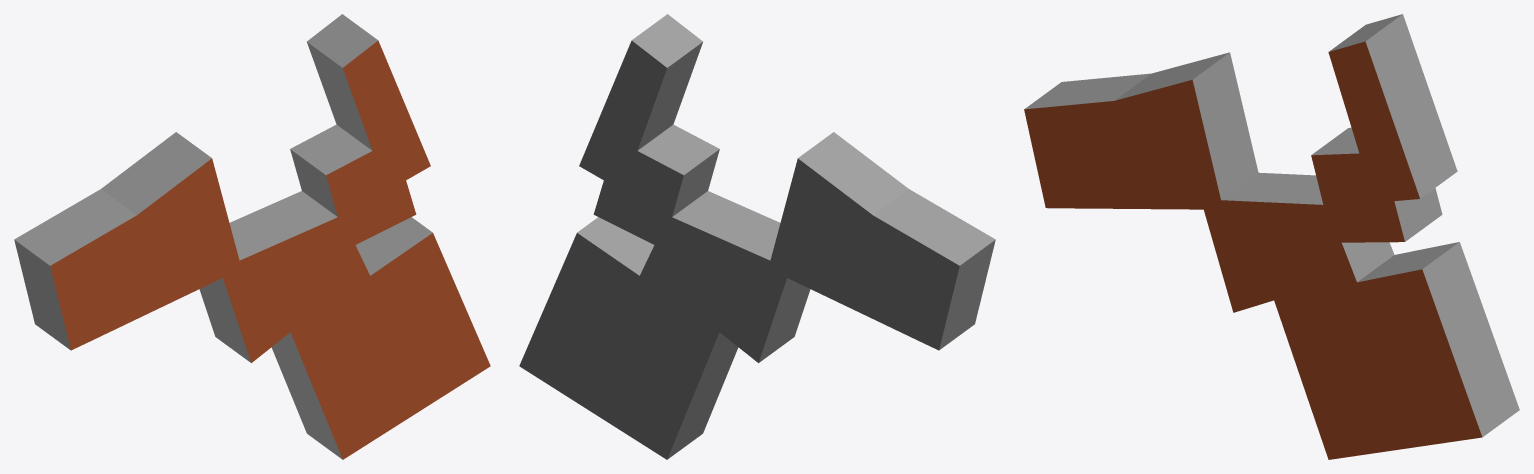
Rendered from construction_1451_assumed_A_Casa_h6m.obj.
3 renders of one model, left to right at view 1: azimuth 30°, elevation 25°; view 2: azimuth 150°, elevation 25°; view 3: azimuth 330°, elevation 25°, orthographic. The views are drawn at different scales.
Parts seen in each view (by area): view 1: construction_1451_assumed_A_Casa; view 2: construction_1451_assumed_A_Casa; view 3: construction_1451_assumed_A_Casa.
Boxes of the visible parts, box(x1,y1,x2,y2) form: construction_1451_assumed_A_Casa: box(14, 14, 490, 459); construction_1451_assumed_A_Casa: box(519, 14, 995, 459); construction_1451_assumed_A_Casa: box(1024, 14, 1519, 459).
Bounding box in the file's own units: 42.39 × 37.78 × 6.
